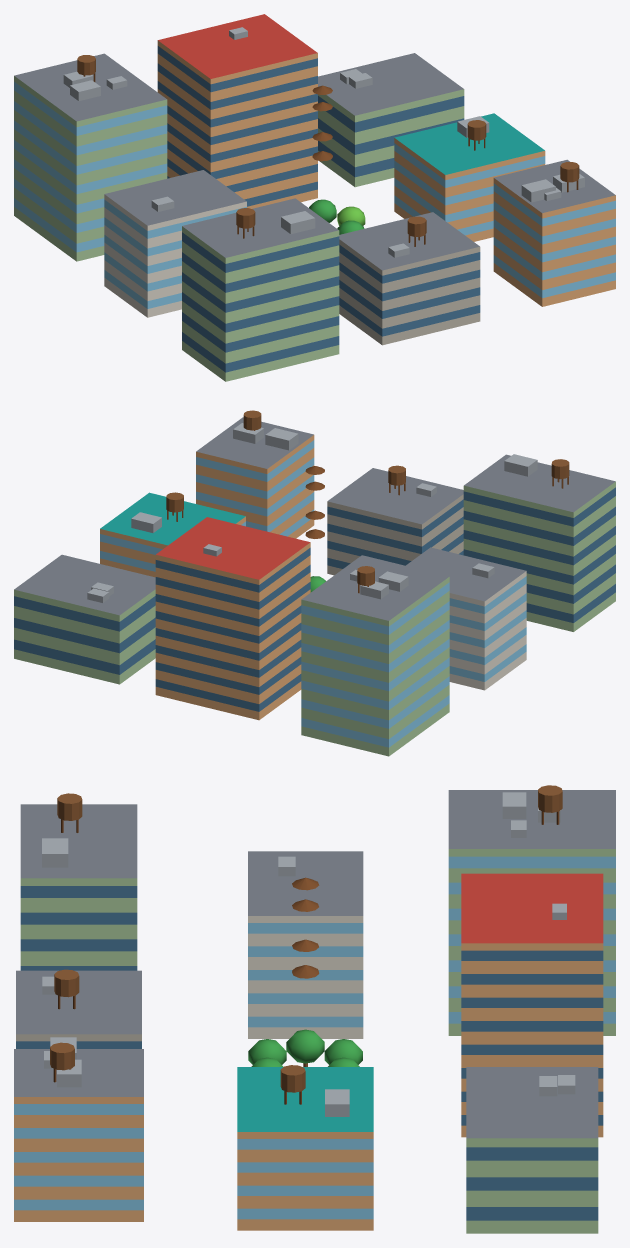
File: BarrioCiudad.fbx
3 renders of one model, top to bottom at view 1: azimuth 30°, elevation 25°; view 2: azimuth 150°, elevation 25°; view 3: azimuth 270°, elevation 25°, orthographic. The views are drawn at different scales.
Visible parts, largest first — view 1: BarrioCiudad; view 2: BarrioCiudad; view 3: BarrioCiudad.
Part boxes in pixels (left/top/right/bottom): BarrioCiudad: left=14, top=14, right=615, bottom=381; BarrioCiudad: left=14, top=410, right=615, bottom=756; BarrioCiudad: left=14, top=785, right=615, bottom=1233.
Bounding box in the file's own units: 99.27 × 39.37 × 95.6.
Materials: 1 (1 with a texture image).
